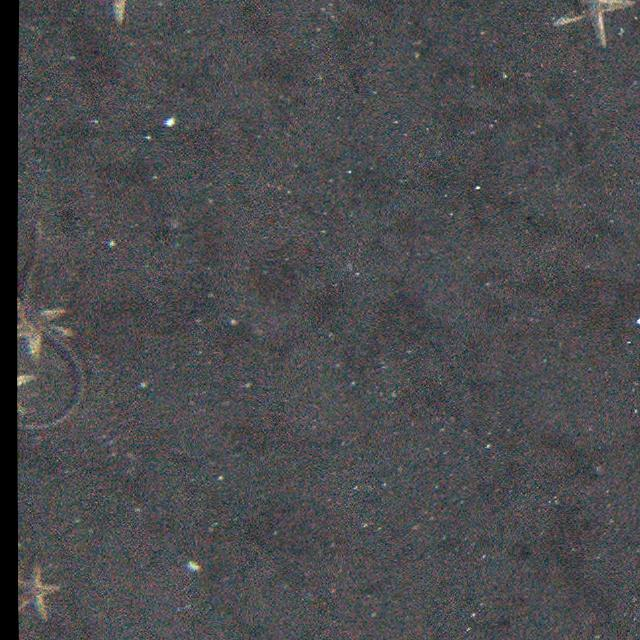eel: (20, 215, 89, 432)
